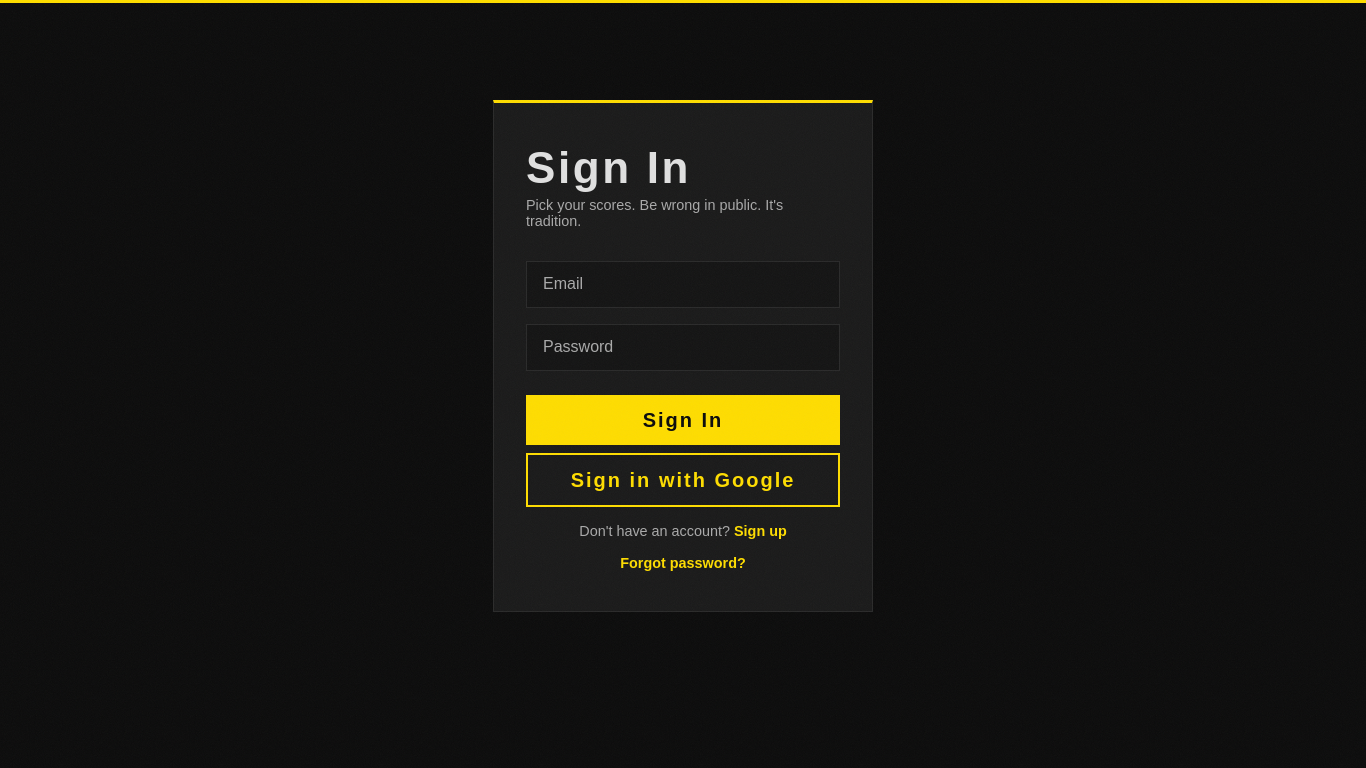
Test: LoginView › shows error and does not navigate when session endpoint returns non-ok
Type "test@crew.mock" into the field with placeholder "Email" at (683, 284), box [526,261,840,308]
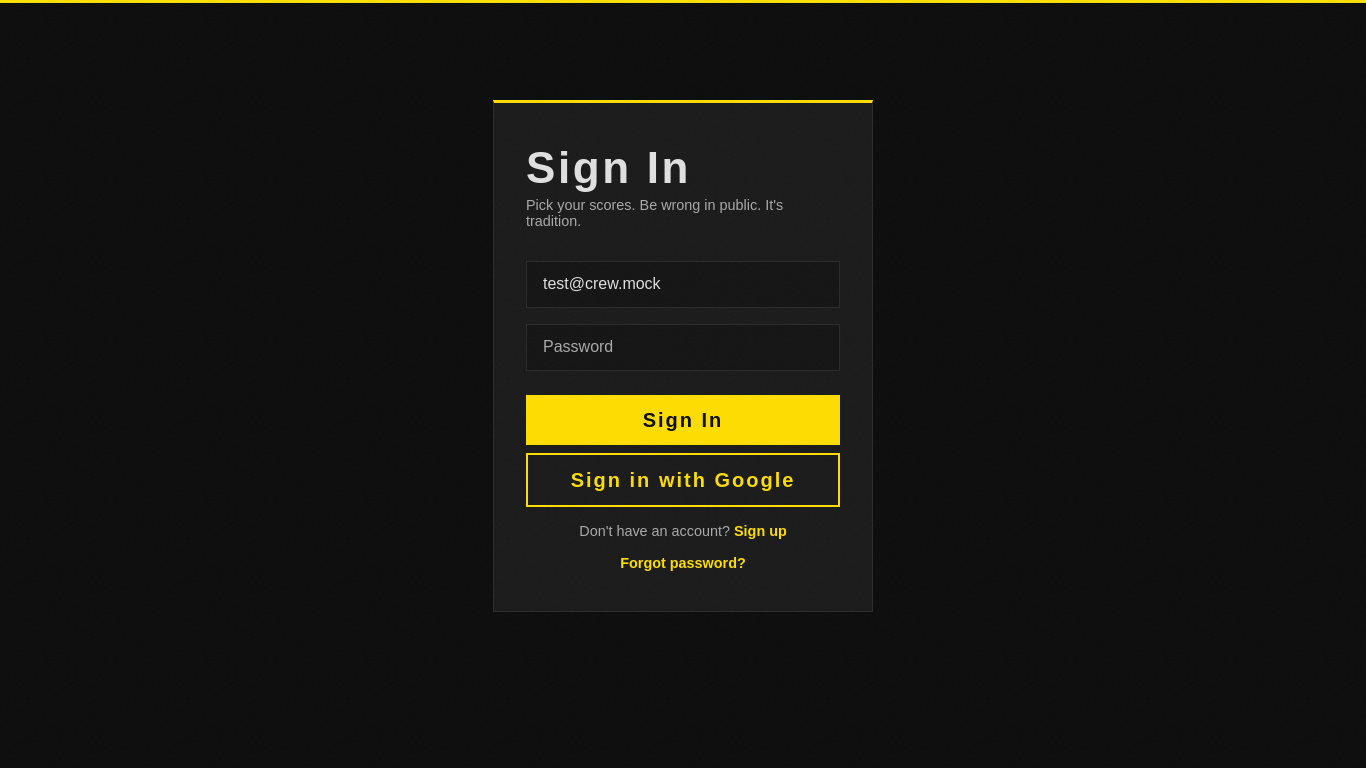
Type "pass123" into the password field with placeholder "Password" at (683, 347), box [526,324,840,371]
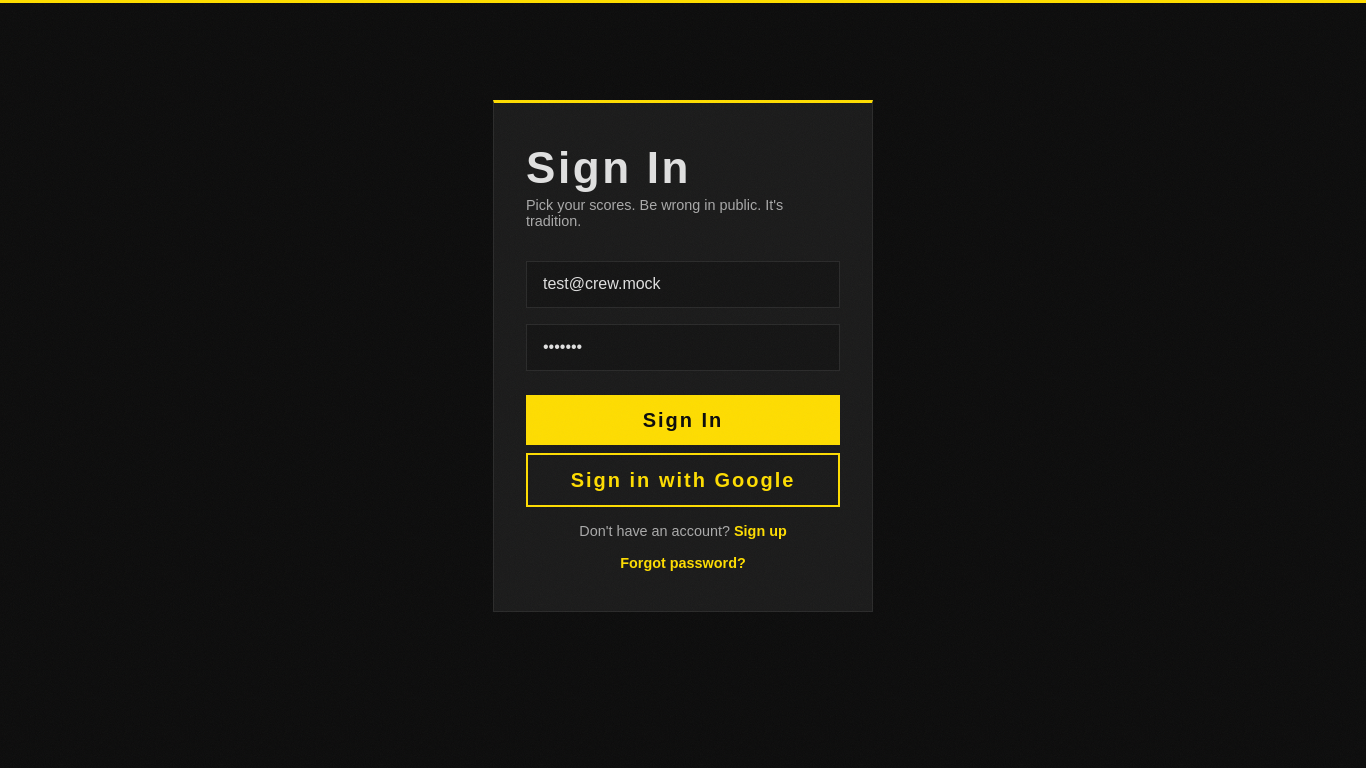
Submit the form, box [526,261,840,445]
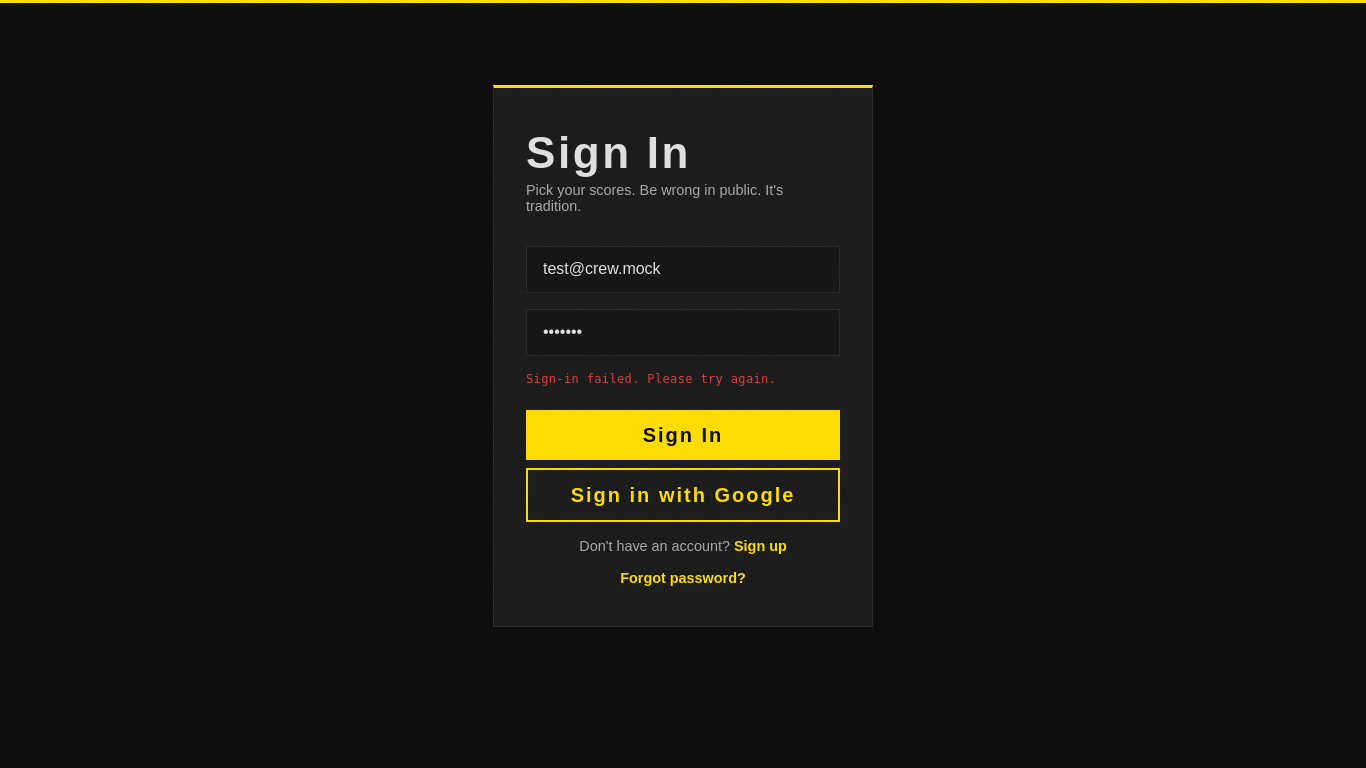
Result: the text "Sign-in failed. Please try again." is shown at [526,372,776,386]
